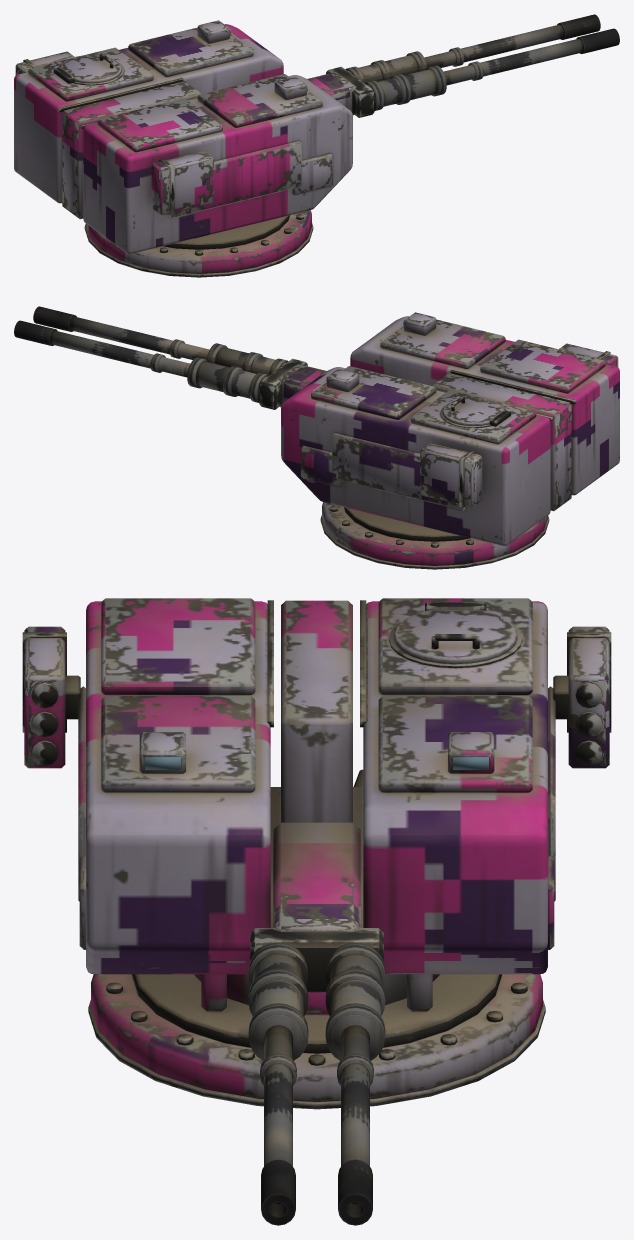
Rendered from turret_kit_t1_pixel.glb.
The picture shows the model from 3 angles, top to bottom: view 1: azimuth 30°, elevation 25°; view 2: azimuth 150°, elevation 25°; view 3: azimuth 270°, elevation 25°; orthographic projection. The views are drawn at different scales.
Parts seen in each view (by area): view 1: turret_twin_t1, guns, pods; view 2: turret_twin_t1, guns, pods; view 3: turret_twin_t1, guns, pods.
Part boxes in pixels (x1=…): turret_twin_t1: x1=14, y1=20, x2=352, y2=277; guns: x1=308, y1=14, x2=619, y2=117; pods: x1=15, y1=51, x2=213, y2=215; turret_twin_t1: x1=281, y1=312, x2=619, y2=569; guns: x1=14, y1=306, x2=325, y2=409; pods: x1=420, y1=343, x2=618, y2=507; turret_twin_t1: x1=78, y1=598, x2=555, y2=1109; guns: x1=248, y1=822, x2=385, y2=1225; pods: x1=22, y1=626, x2=611, y2=768.
Size of the model in its own units: 2.41 by 0.695 by 1.15.
4 materials, 3 textured.
